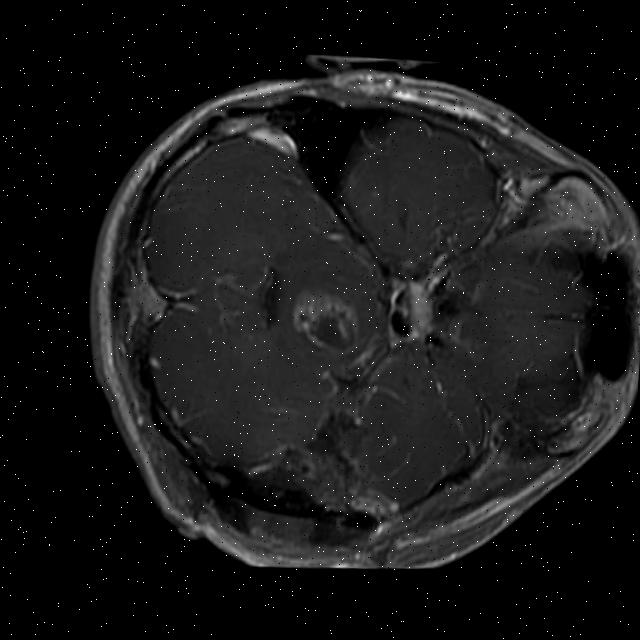Glioma: (288, 288, 362, 357)
